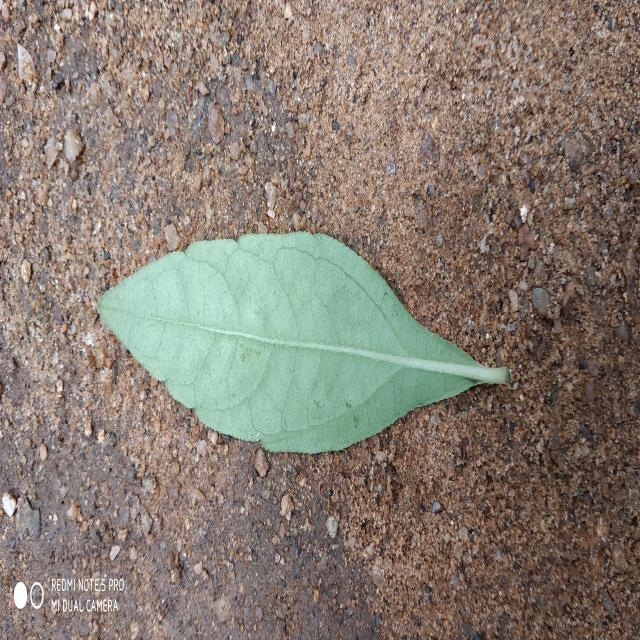bringaraja: (99, 232, 509, 452)
